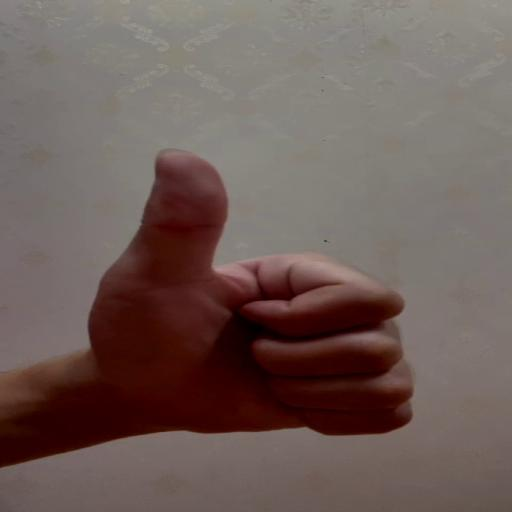thumbs_up: (91, 147, 418, 436)
